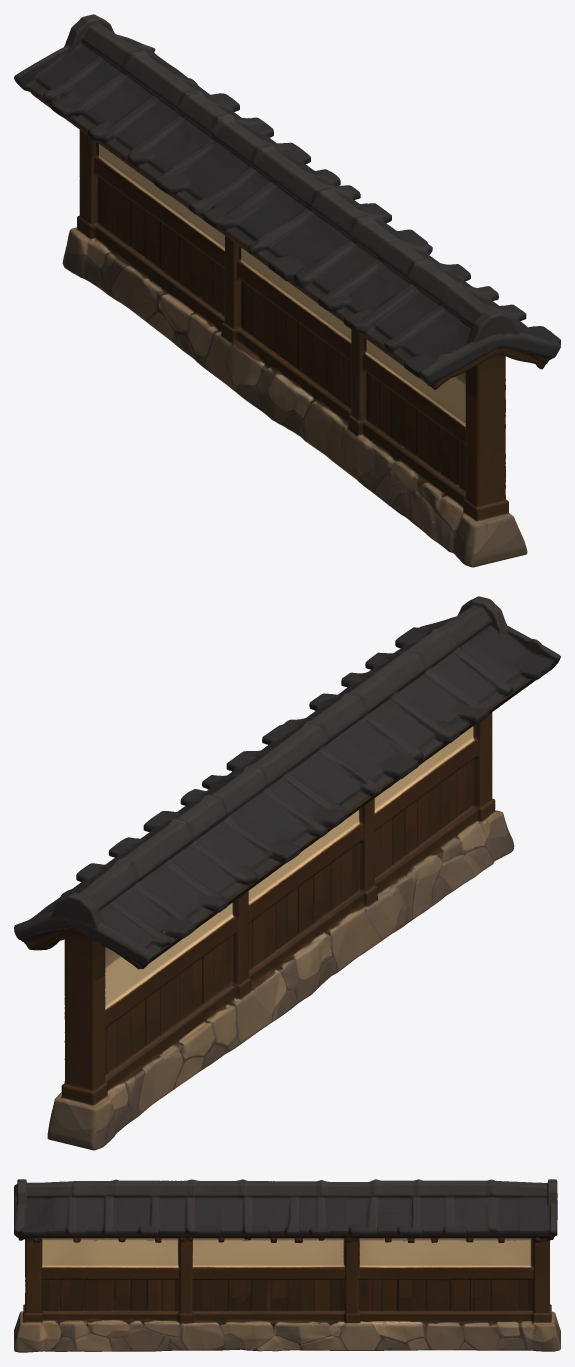
The model's file is tripo_convert_c5728e52-99ec-4baa-85a4-50acbbcb1231.fbx.
3 views of the same model, one above another, from view 1: azimuth 30°, elevation 25°; view 2: azimuth 150°, elevation 25°; view 3: azimuth 270°, elevation 25° (orthographic). The views are drawn at different scales.
Parts seen in each view (by area): view 1: tripo_node_c5728e52; view 2: tripo_node_c5728e52; view 3: tripo_node_c5728e52.
Part boxes in pixels (left/top/right/bottom): tripo_node_c5728e52: left=14, top=14, right=560, bottom=567; tripo_node_c5728e52: left=14, top=596, right=560, bottom=1150; tripo_node_c5728e52: left=14, top=1179, right=560, bottom=1352.
Size of the model in its own units: 0.2011 by 0.3263 by 1.
Materials: 1 (1 with a texture image).
